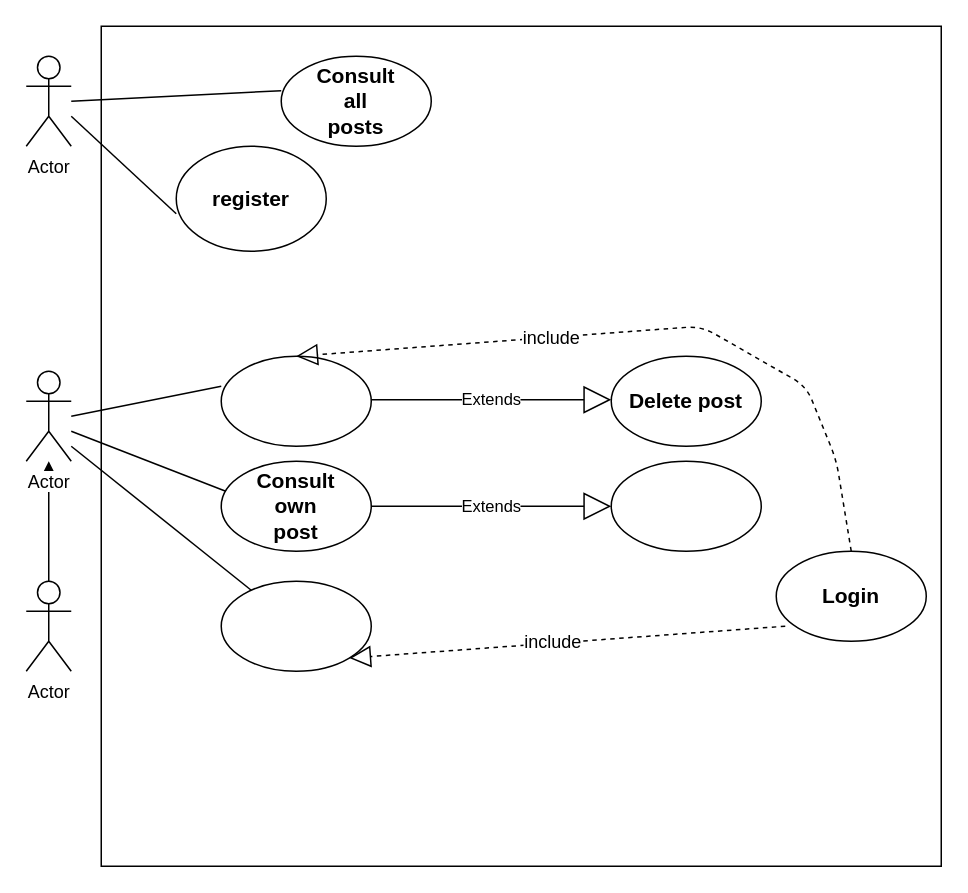
Image size: 968x893. Some labels were removed from this diagram. The shapes that lost their labels are listed below. From the top down, each one's centre as x and y in pixels, then its label:
the point at 295,400: Add new post
the point at 685,505: Update post
the point at 295,625: Like post
